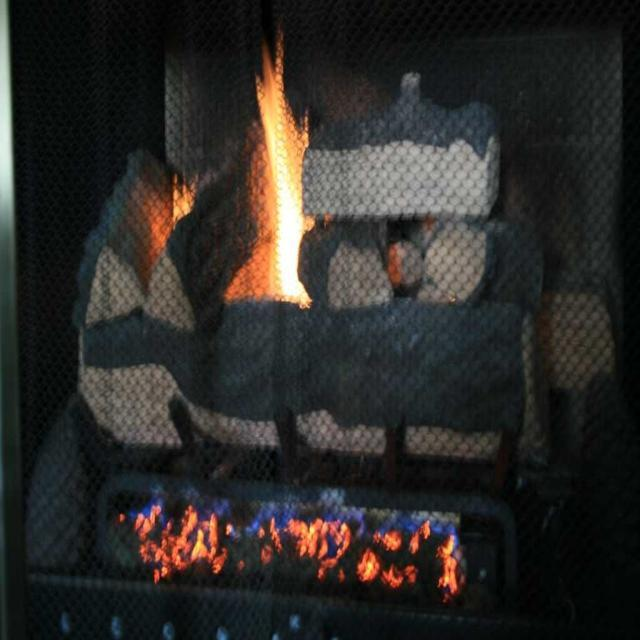Fire: (114, 489, 471, 596), (242, 55, 320, 302)
